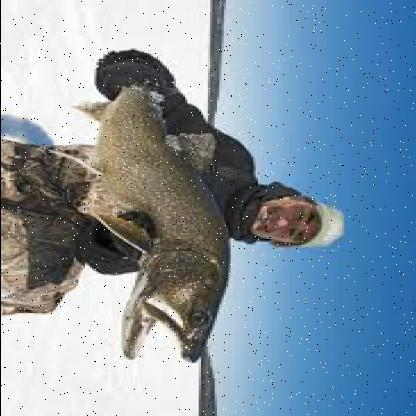fish: (77, 73, 235, 364)
